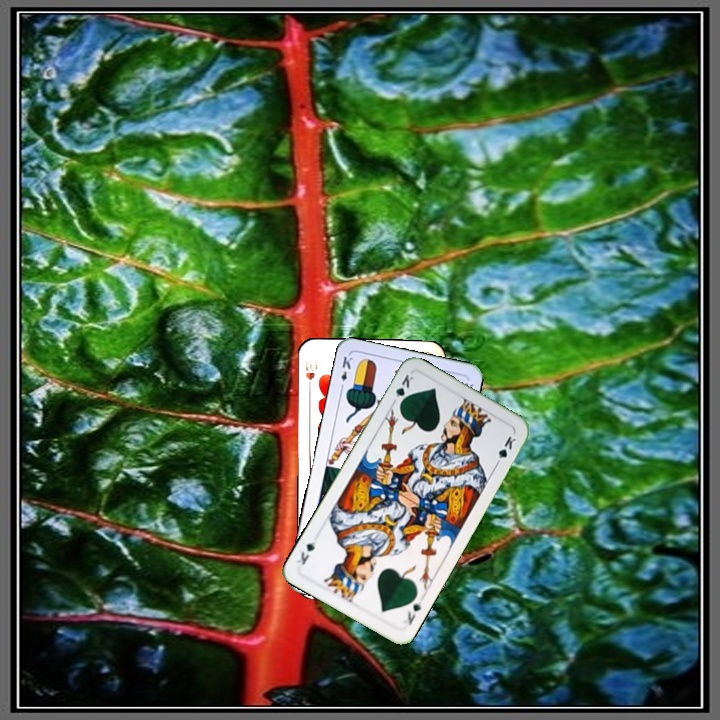EK: (336, 352, 355, 392)
GK: (388, 370, 417, 409), (400, 597, 424, 627)
H10: (302, 357, 321, 394)
